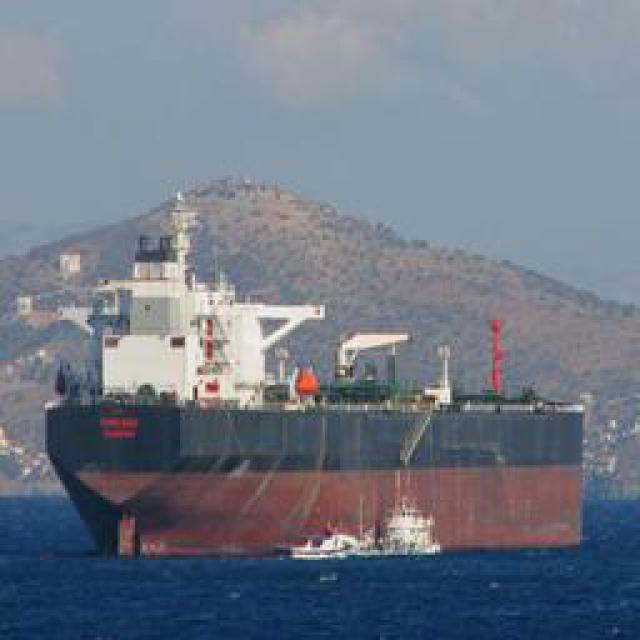Ship: (37, 304, 597, 559)
